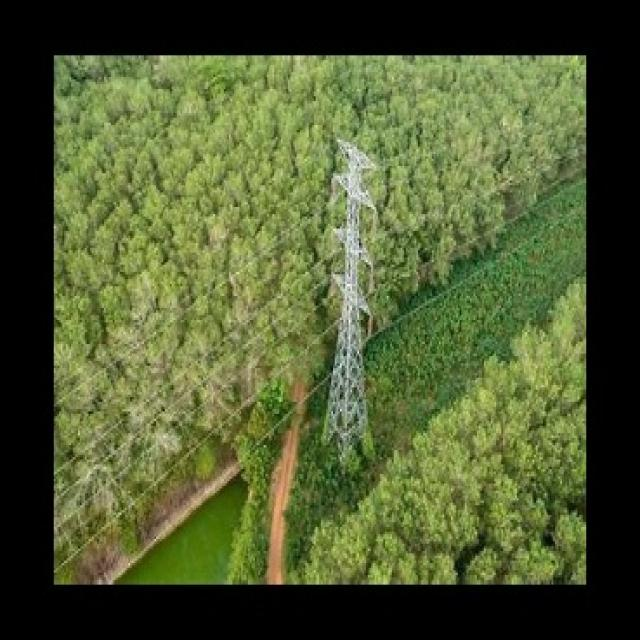utility poles: (308, 116, 390, 462)
